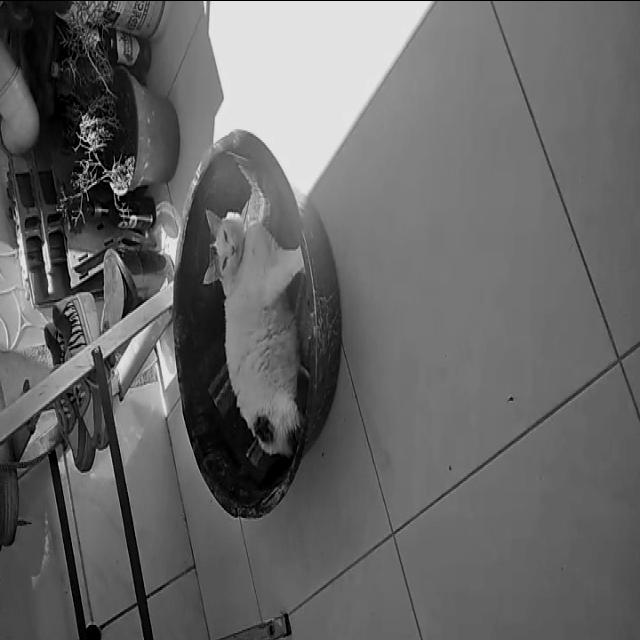Simba: (186, 173, 304, 467)
